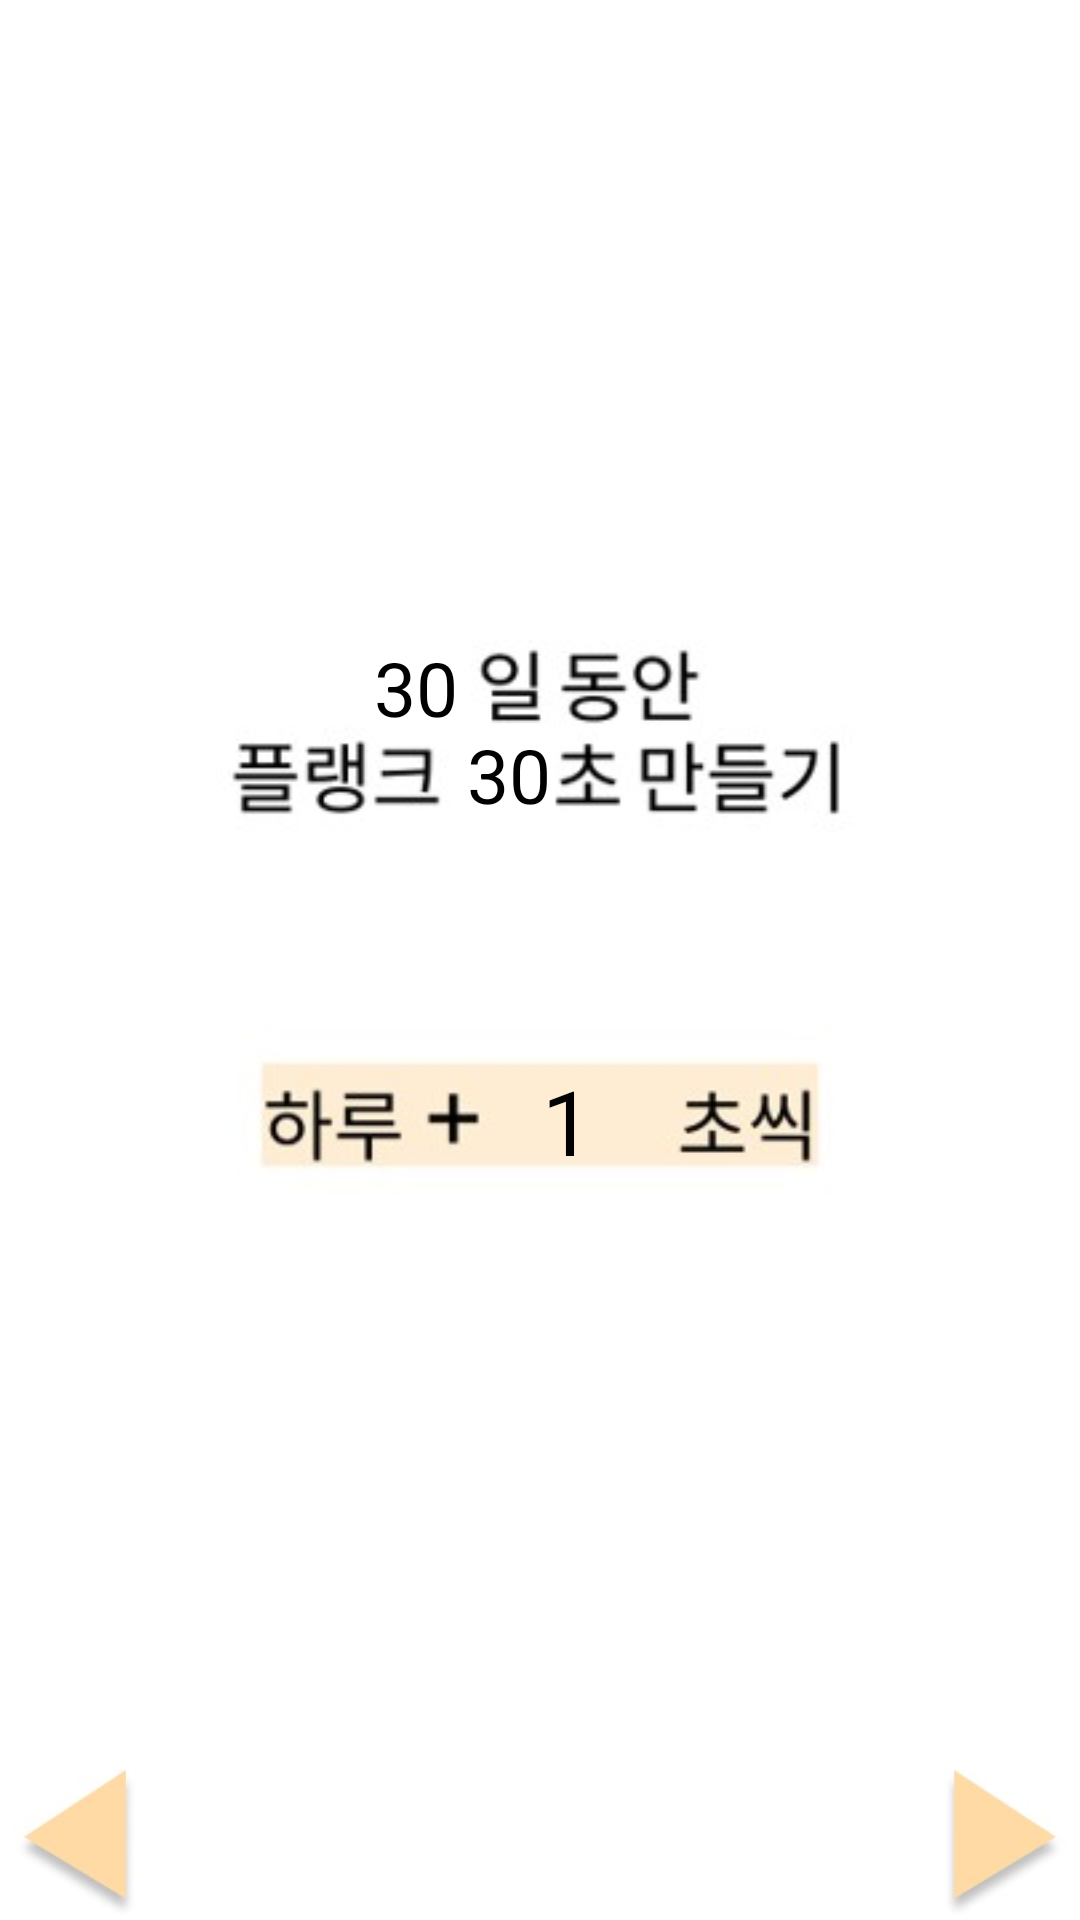

Icons on this 1080w x 1920h Android screen, each with its box as bbox(x1, y1, x2, y2):
backicon: bbox(24, 1770, 128, 1906)
move: bbox(952, 1770, 1056, 1906)
